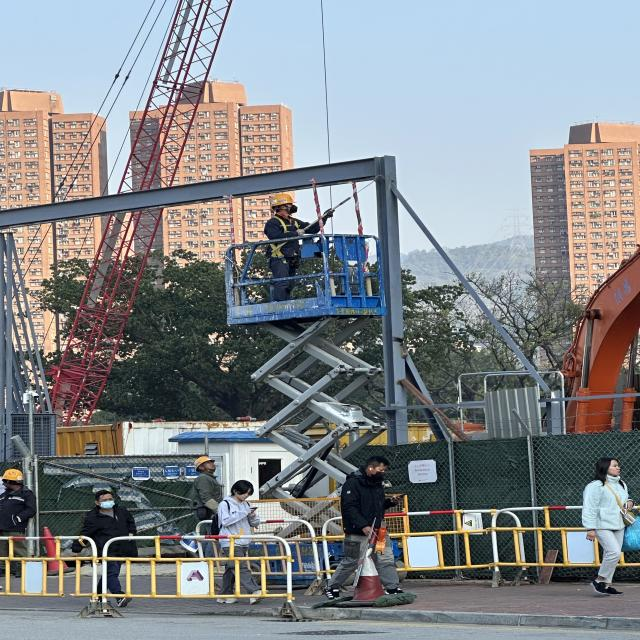2m above platform: (211, 235, 418, 456)
Belt: (264, 213, 307, 262)
worker: (255, 195, 335, 298), (177, 455, 220, 514), (0, 464, 34, 532)
